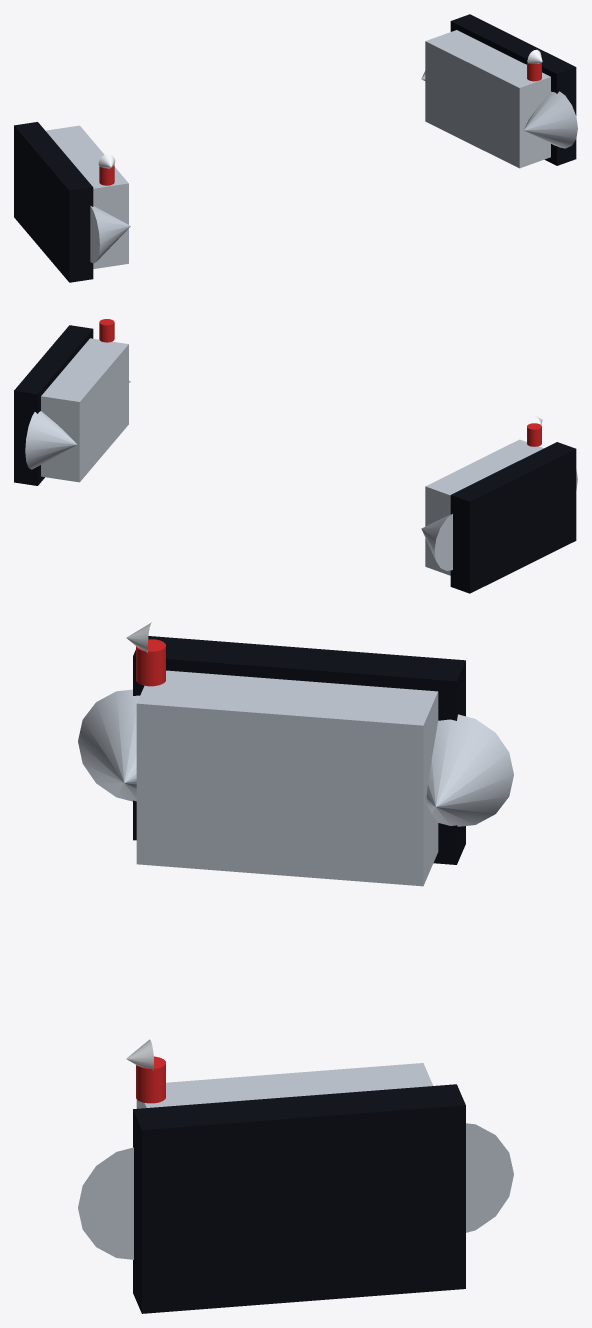
The model's file is intercoolers_bov.glb.
3 views of the same model, one above another, from view 1: azimuth 30°, elevation 25°; view 2: azimuth 150°, elevation 25°; view 3: azimuth 270°, elevation 25° (orthographic). The views are drawn at different scales.
Visible parts, largest first — view 1: Intercooler_RH, Intercooler_LH; view 2: Intercooler_LH, Intercooler_RH; view 3: Intercooler_RH, Intercooler_LH.
Part boxes in pixels (x1,y1,x2,y2): Intercooler_RH: [421, 14, 577, 168]; Intercooler_LH: [14, 122, 130, 282]; Intercooler_LH: [421, 416, 577, 593]; Intercooler_RH: [14, 319, 130, 485]; Intercooler_RH: [78, 1039, 513, 1313]; Intercooler_LH: [78, 622, 513, 886].
Size of the model in its own units: 1.85 by 0.408 by 0.6887.
